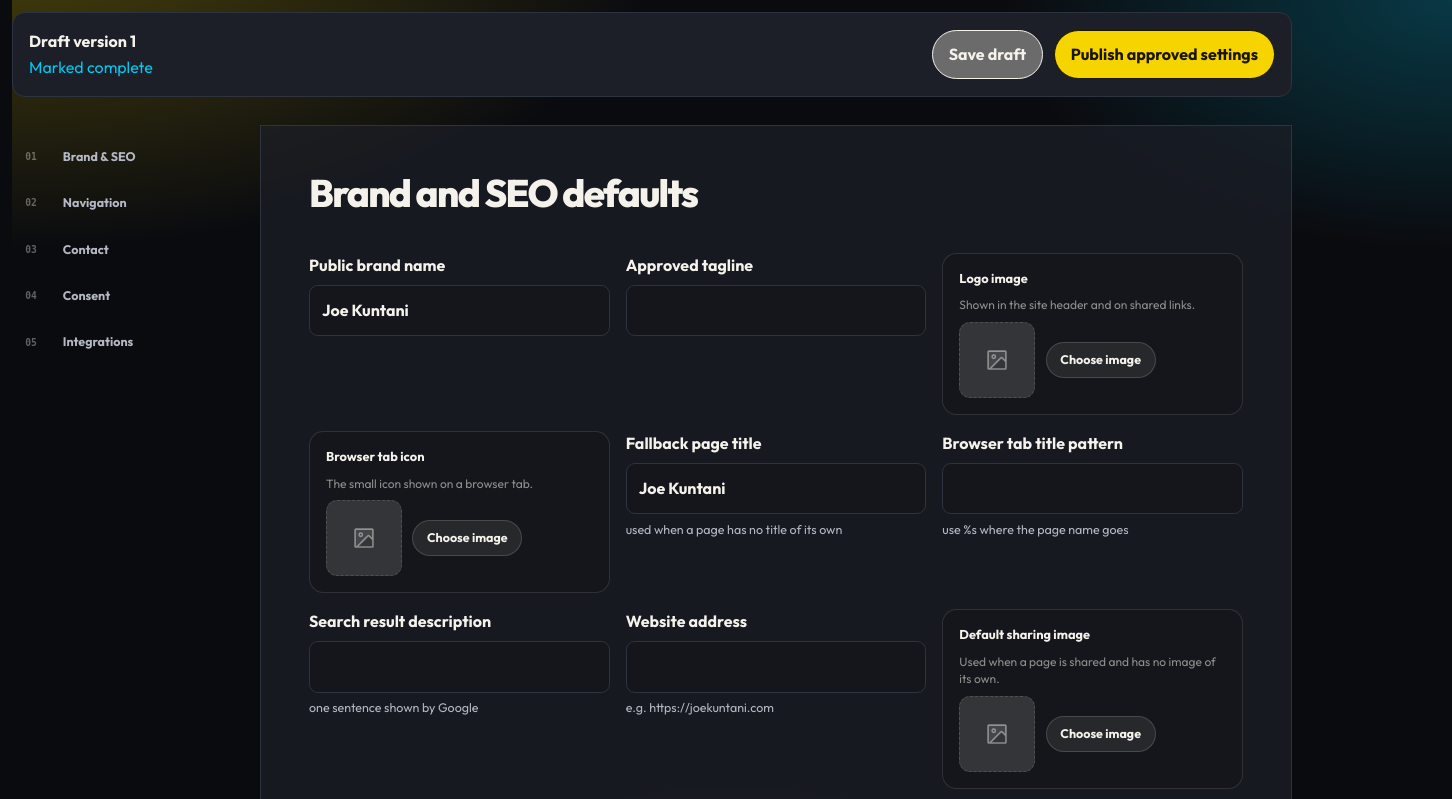
reports a 409 from publishing
Expected: the field labelled "Public brand name" is shown, [309, 285, 610, 336]
Step 1. Click the button "Publish approved settings" → (1164, 55), box [1054, 30, 1275, 79]
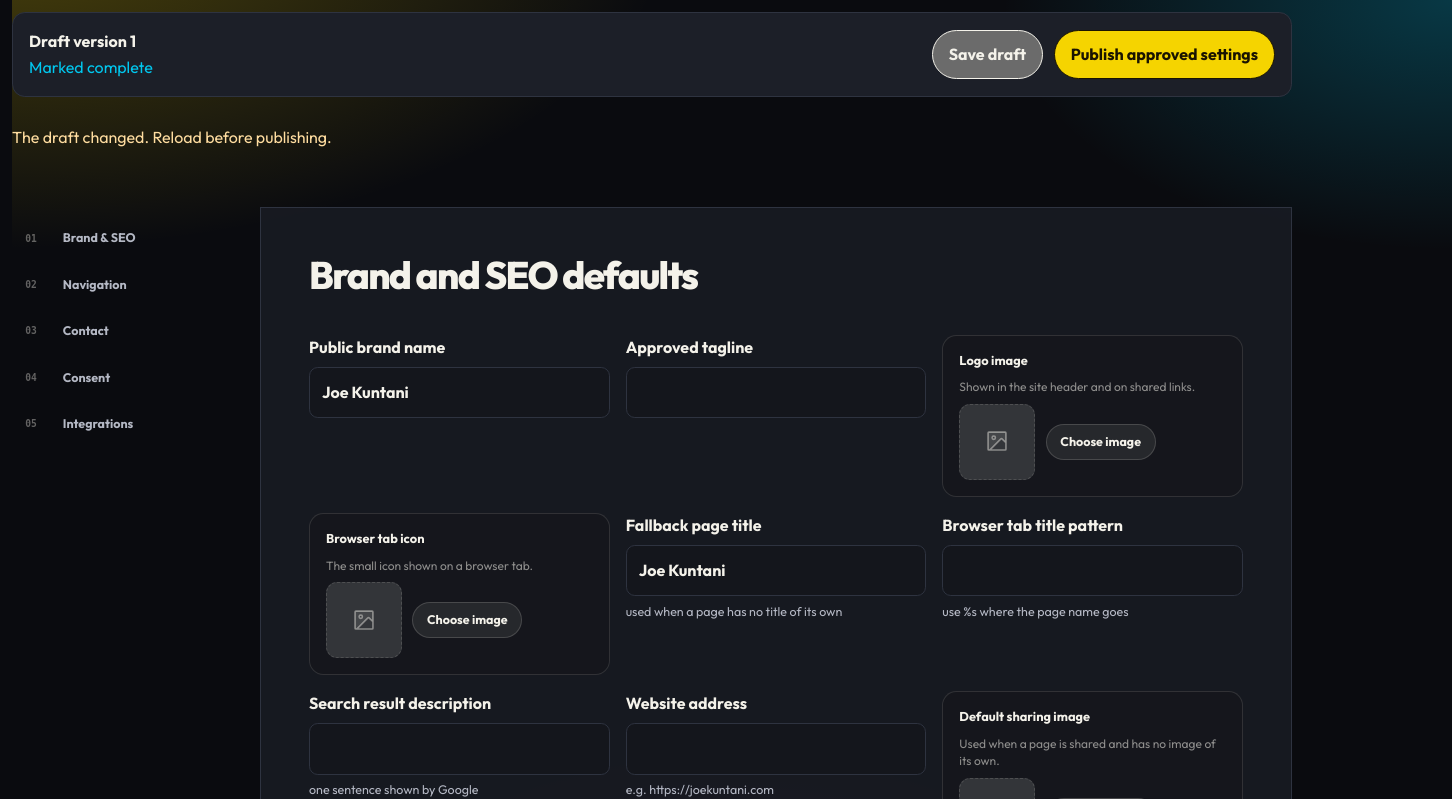
Result: the text "The draft changed. Reload before publishing." is shown at [12, 127, 332, 147]
